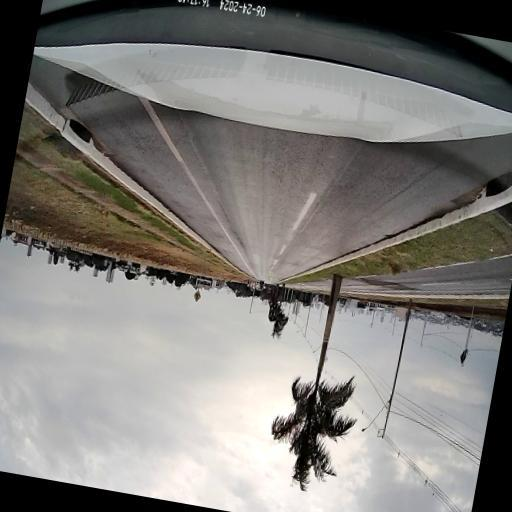A-32b: (192, 288, 200, 302)
